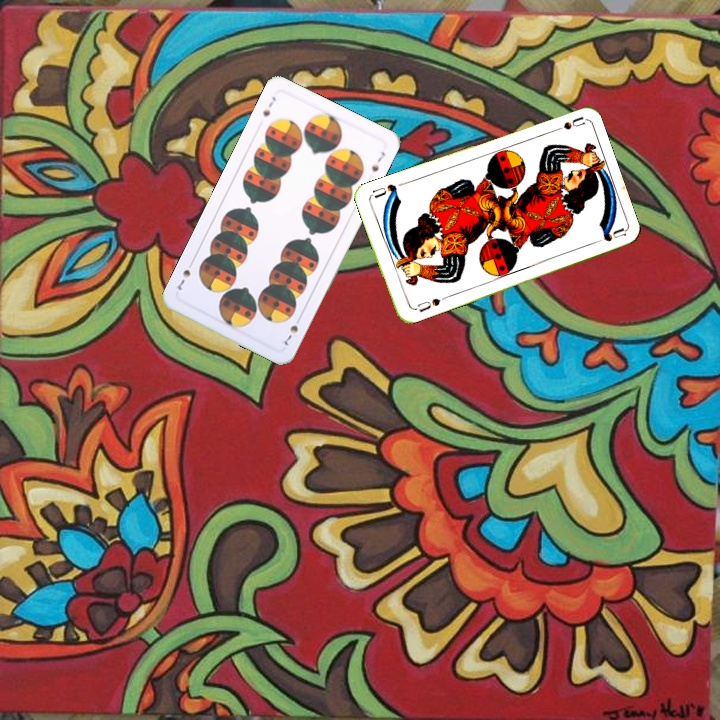S7: (280, 312, 304, 348), (259, 92, 279, 119)
SU: (546, 113, 586, 135), (409, 294, 443, 314)
